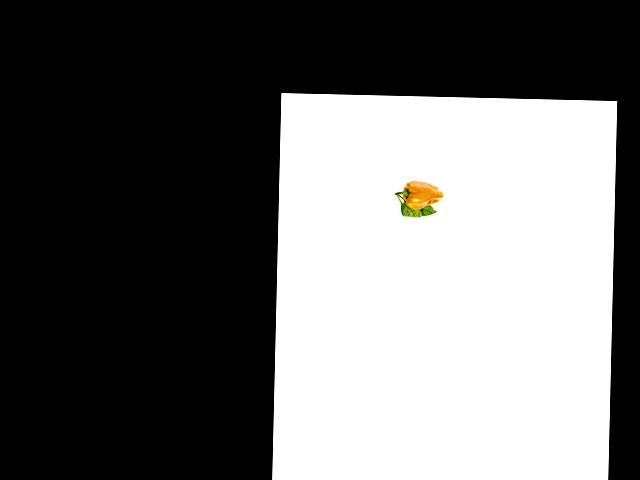bell_pepper: (393, 178, 444, 210)
